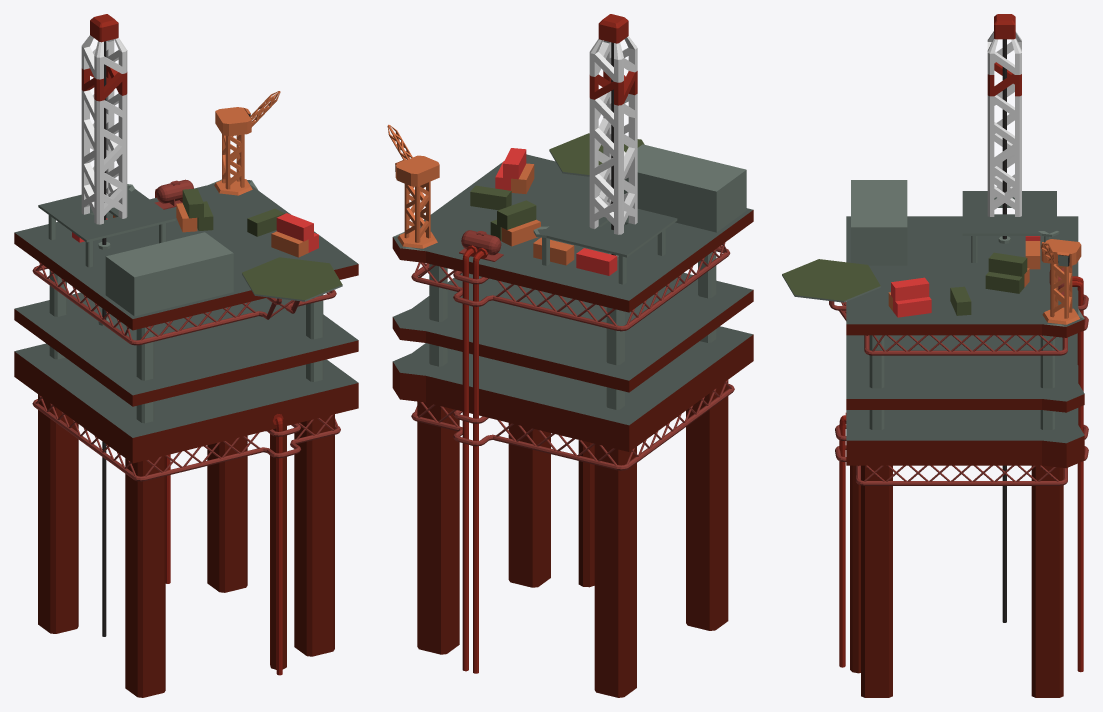
File: oil_rig.fbx
3 renders of one model, left to right at view 1: azimuth 30°, elevation 25°; view 2: azimuth 150°, elevation 25°; view 3: azimuth 270°, elevation 25°, orthographic. The views are drawn at different scales.
Parts seen in each view (by area): view 1: Oil Rig; view 2: Oil Rig; view 3: Oil Rig.
Boxes of the visible parts, x1,y1,x2,y2 form: Oil Rig: (14, 14, 358, 697); Oil Rig: (387, 14, 753, 697); Oil Rig: (782, 14, 1088, 697).
Size of the model in its own units: 1336 by 3176 by 1460.
